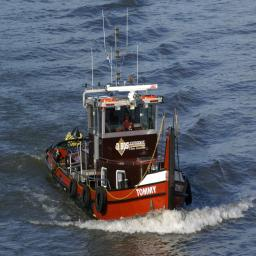tugboat: (45, 82, 194, 226)
